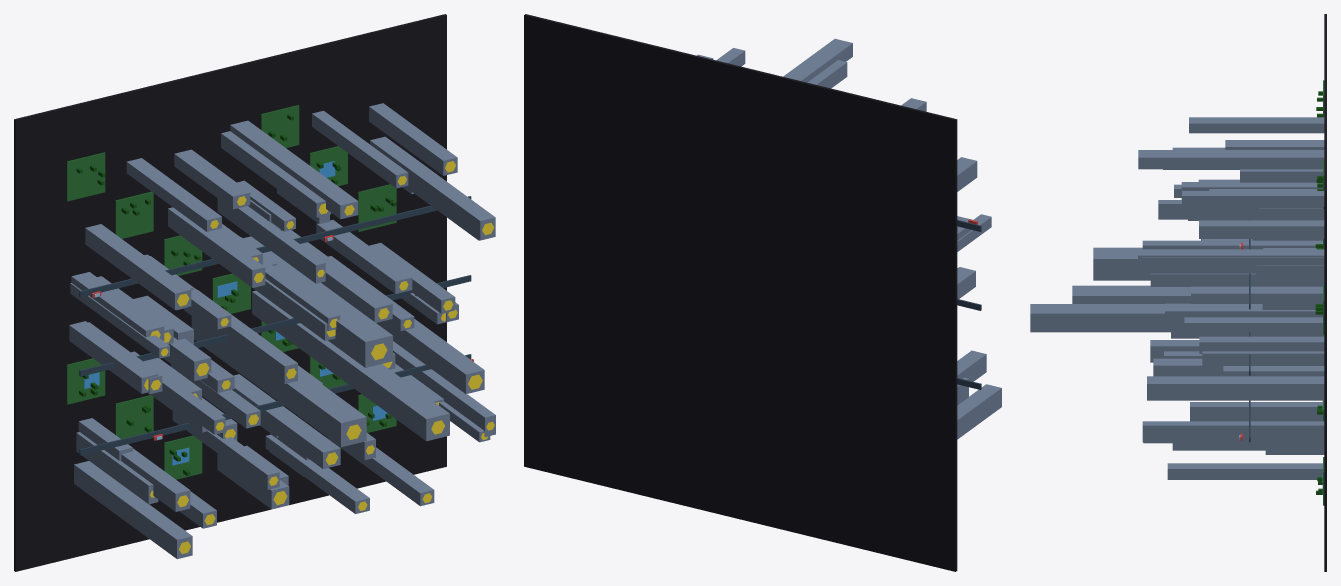
Rendered from future_city.obj.
The picture shows the model from 3 angles, left to right: view 1: azimuth 30°, elevation 25°; view 2: azimuth 150°, elevation 25°; view 3: azimuth 270°, elevation 25°; orthographic projection. The views are drawn at different scales.
Size of the model in its own units: 160 by 160 by 113.
